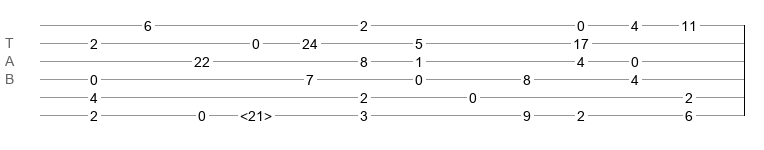0: (90, 72, 98, 82), (198, 108, 206, 118), (252, 36, 260, 46), (415, 72, 423, 82), (469, 90, 477, 100), (577, 18, 585, 28), (631, 54, 639, 64)
1: (415, 54, 423, 64)
11: (681, 18, 697, 28)
17: (573, 36, 589, 46)
2: (90, 108, 98, 118), (90, 36, 98, 46), (360, 18, 368, 28), (360, 90, 368, 100), (577, 108, 585, 118), (685, 90, 693, 100)
22: (194, 54, 210, 64)
24: (302, 36, 318, 46)
3: (360, 108, 368, 118)
4: (90, 90, 98, 100), (577, 54, 585, 64), (631, 72, 639, 82), (631, 18, 639, 28)
5: (415, 36, 423, 46)
6: (144, 18, 152, 28), (685, 108, 693, 118)
7: (306, 72, 314, 82)
8: (360, 54, 368, 64), (523, 72, 531, 82)
9: (523, 108, 531, 118)
harmonic: (240, 108, 272, 118)
